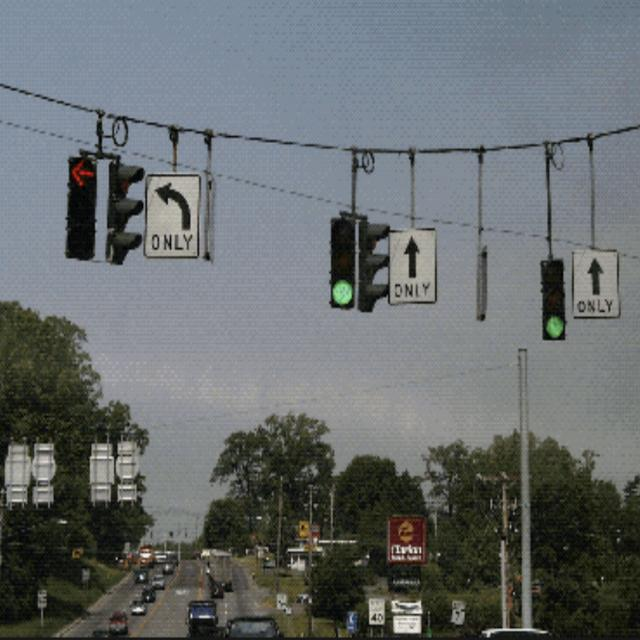speedLimit40: (369, 601, 385, 626)
